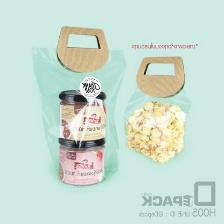snack: (26, 19, 133, 190), (118, 50, 198, 169)
